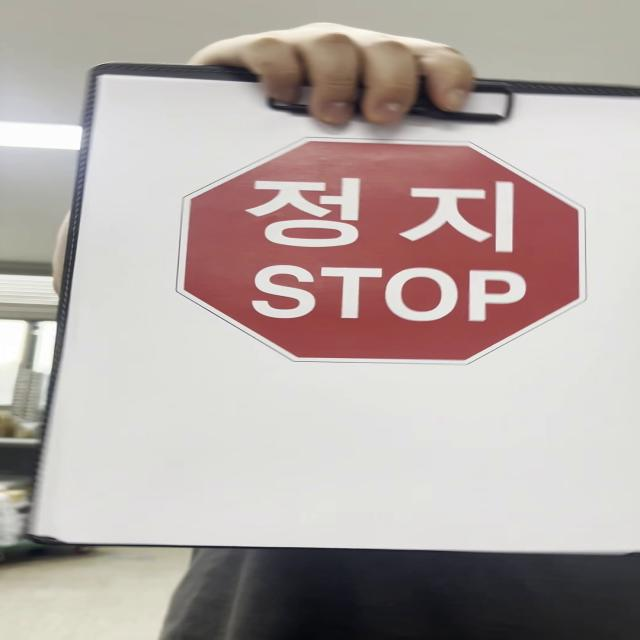stop: (174, 139, 595, 366)
